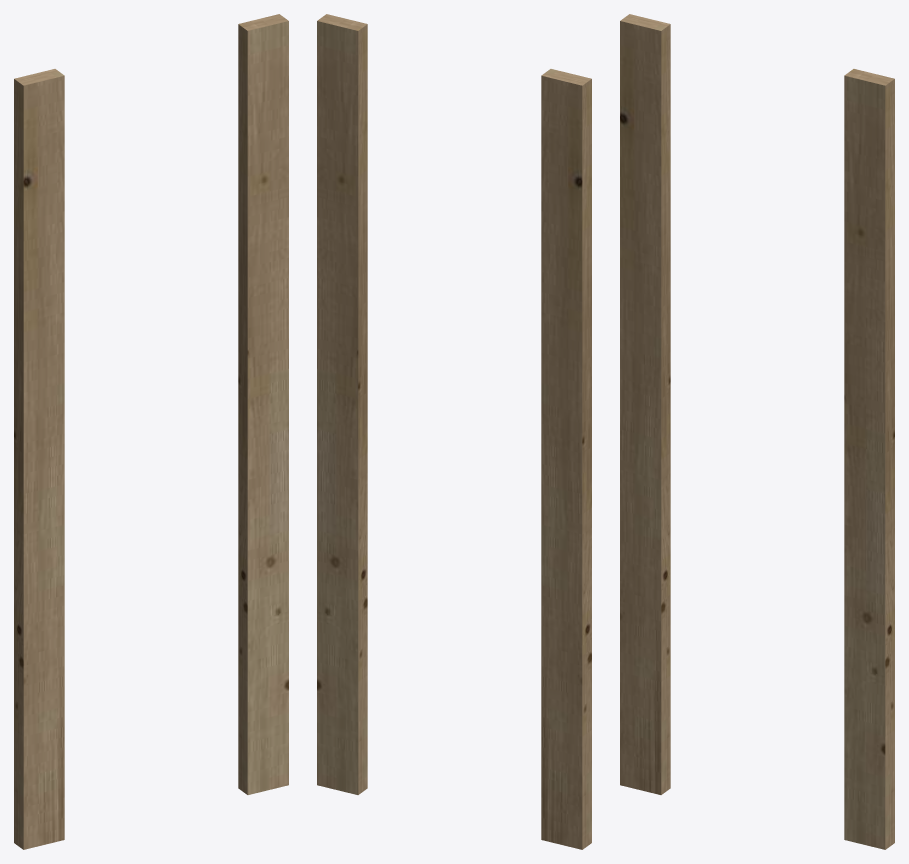
The model's file is Joglo_part_297.fbx.
3 renders of one model, left to right at view 1: azimuth 30°, elevation 25°; view 2: azimuth 150°, elevation 25°; view 3: azimuth 330°, elevation 25°, orthographic.
Parts seen in each view (by area): view 1: Mesh360_Wood___Pine_Grained_Horizontal_0.001; view 2: Mesh360_Wood___Pine_Grained_Horizontal_0.001; view 3: Mesh360_Wood___Pine_Grained_Horizontal_0.001.
Boxes of the visible parts, bbox=[...] form: Mesh360_Wood___Pine_Grained_Horizontal_0.001: bbox=[14, 14, 288, 849]; Mesh360_Wood___Pine_Grained_Horizontal_0.001: bbox=[317, 14, 591, 849]; Mesh360_Wood___Pine_Grained_Horizontal_0.001: bbox=[620, 14, 894, 849].
Size of the model in its own units: 25.35 by 69.76 by 1.57.
